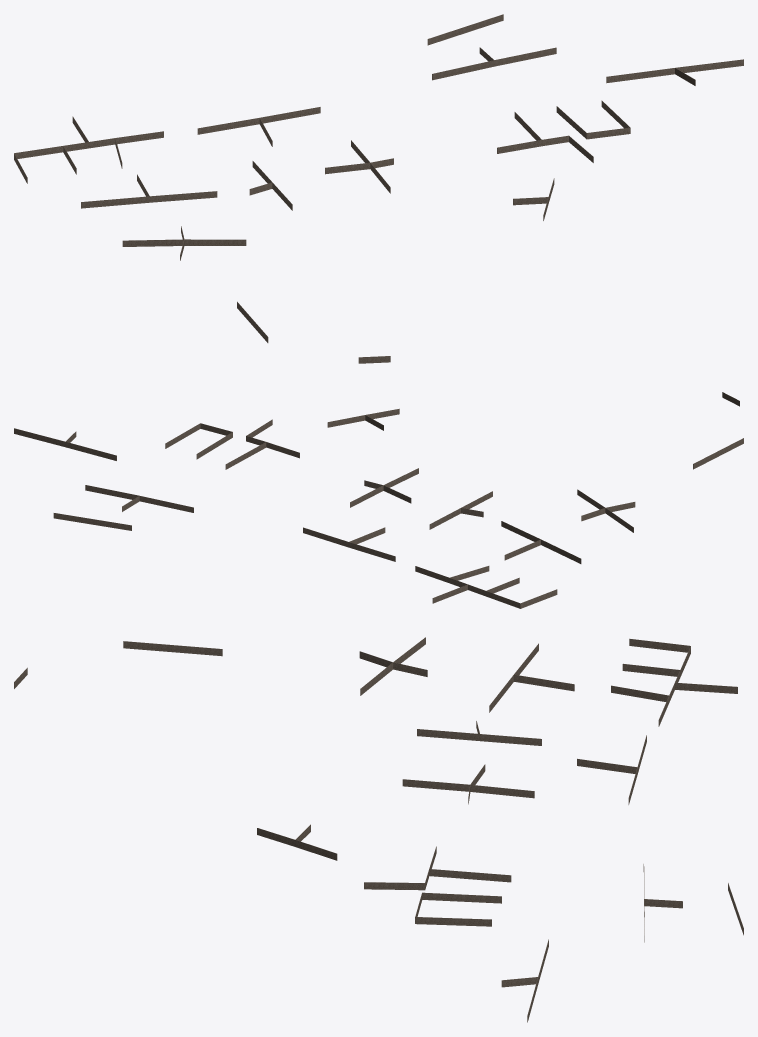
Rendered from MurosinterioresConTextura.fbx.
3 views of the same model, one above another, from view 1: azimuth 30°, elevation 25°; view 2: azimuth 150°, elevation 25°; view 3: azimuth 270°, elevation 25° (orthographic). The views are drawn at different scales.
Parts seen in each view (by area): view 1: no part large enough to name; view 2: muros.395; view 3: muros.088, muros.398, muros.393.
Boxes of the visible parts, bbox=[...] form: muros.395: bbox=[53, 513, 131, 530]; muros.088: bbox=[123, 641, 222, 656]; muros.398: bbox=[429, 869, 511, 882]; muros.393: bbox=[422, 892, 501, 903].
Size of the model in its own units: 20878 by 668 by 17707.
Materials: 1 (1 with a texture image).
